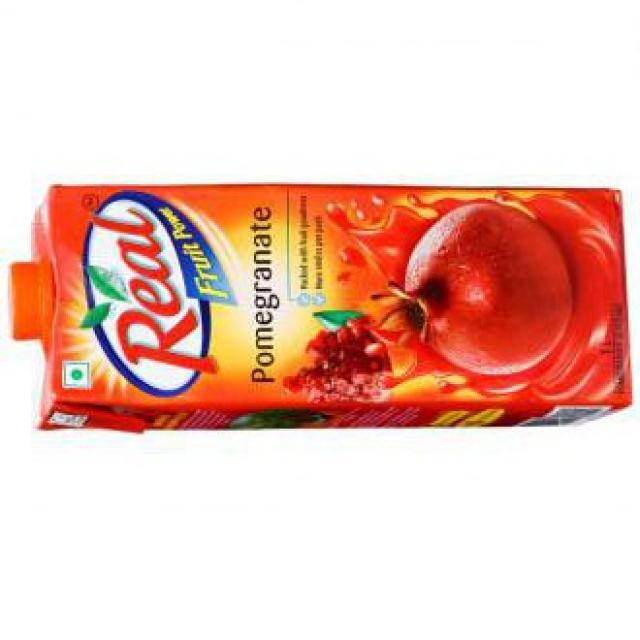non_white_jug: (4, 181, 636, 435)
